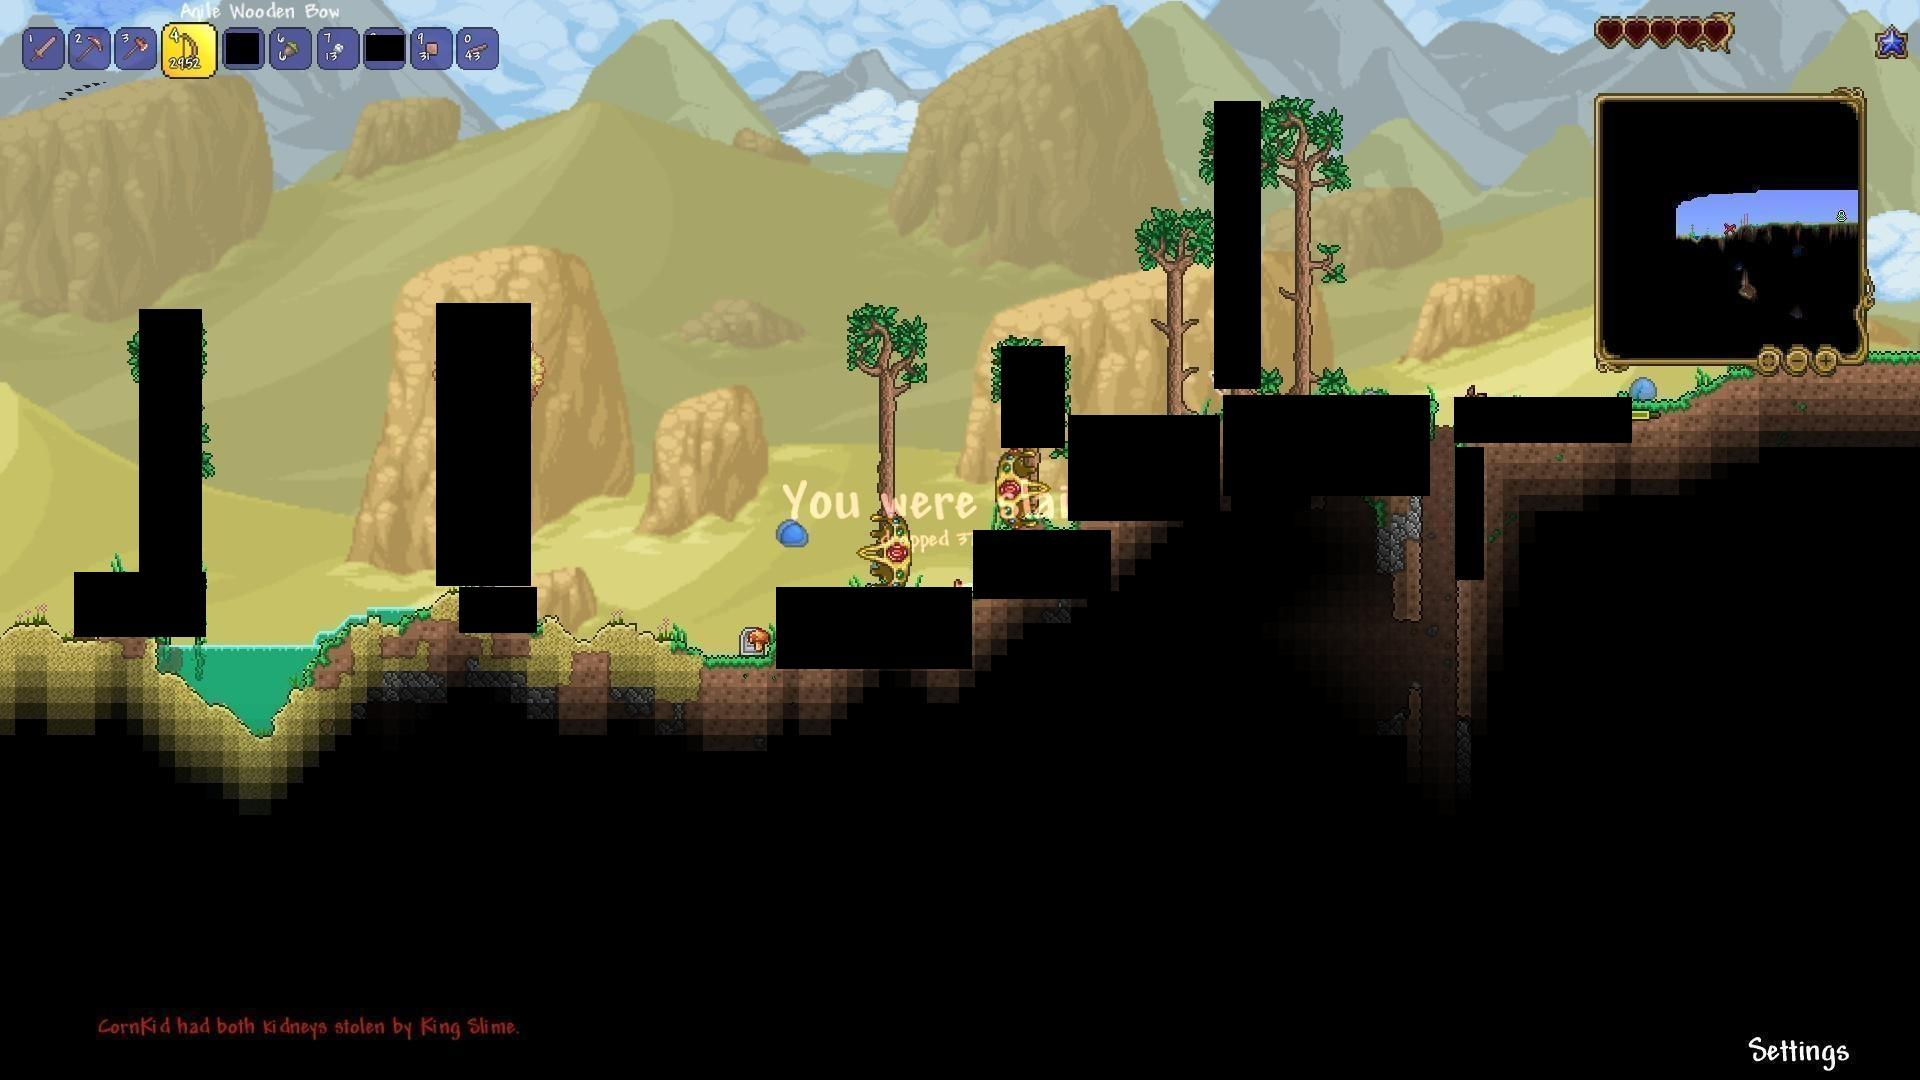dirt: (1662, 352, 1920, 396), (703, 650, 774, 694)
slime: (774, 520, 812, 547), (1629, 375, 1659, 400)
tree: (1271, 92, 1337, 393), (1143, 194, 1207, 413), (857, 295, 914, 512)
